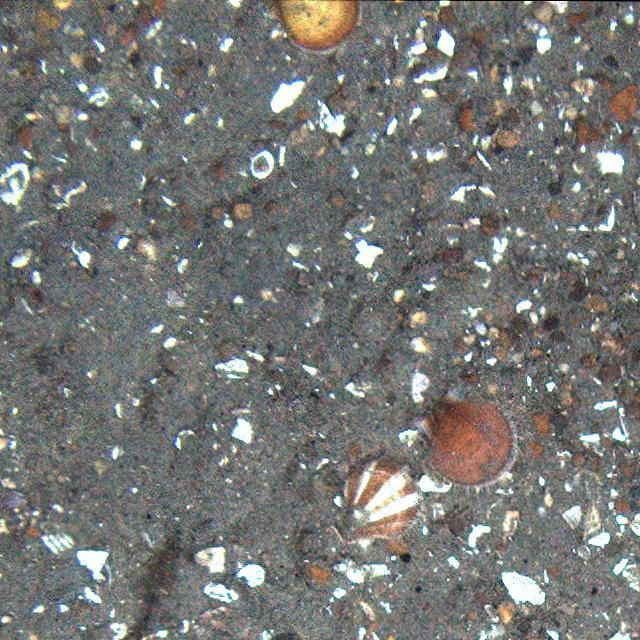scallop: (421, 394, 521, 488), (276, 1, 362, 52)
